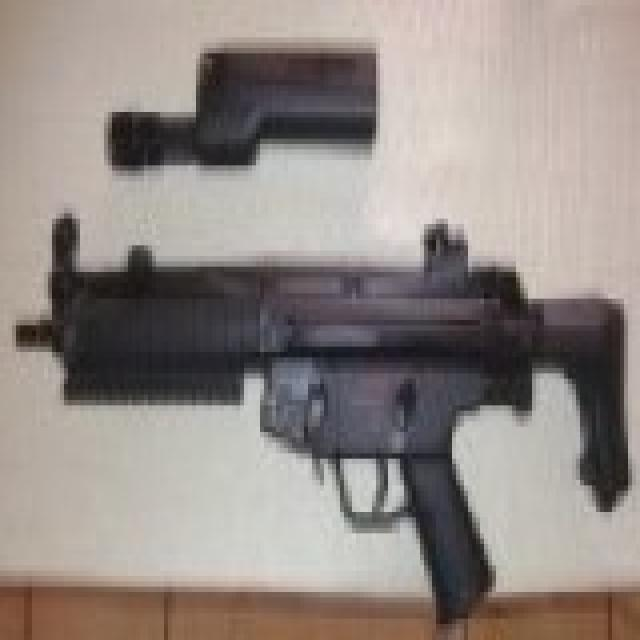Gun: (17, 203, 636, 619)
